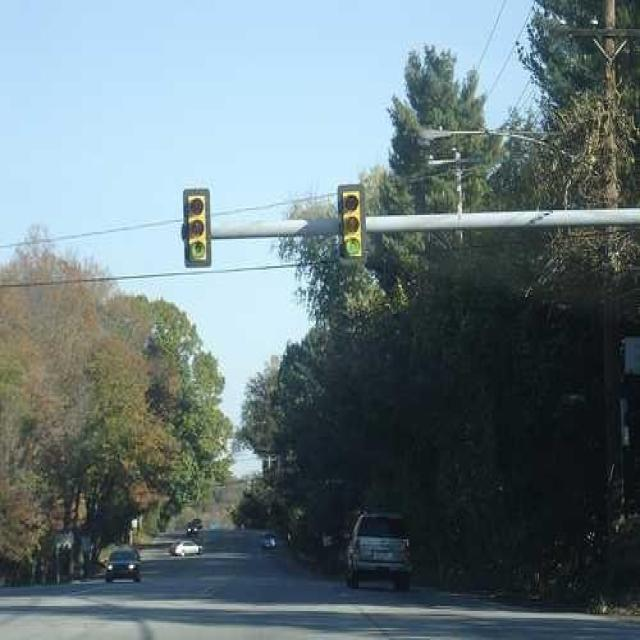Traffic Light -Green-: (178, 188, 212, 270), (334, 182, 367, 260)
